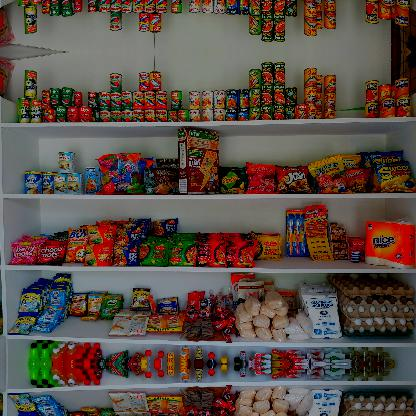Koko-Krunch: (178, 127, 218, 194)
